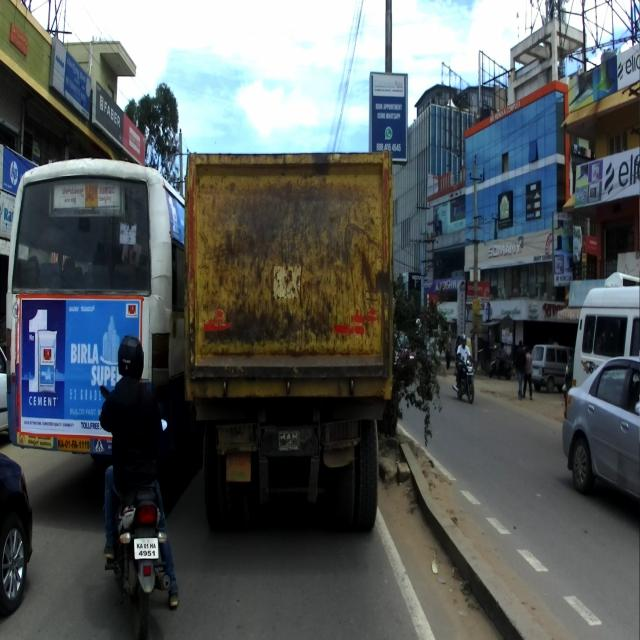bus: (5, 158, 188, 471)
car: (561, 356, 640, 506)
motorcycle: (98, 383, 171, 639)
truck: (182, 146, 392, 533)
